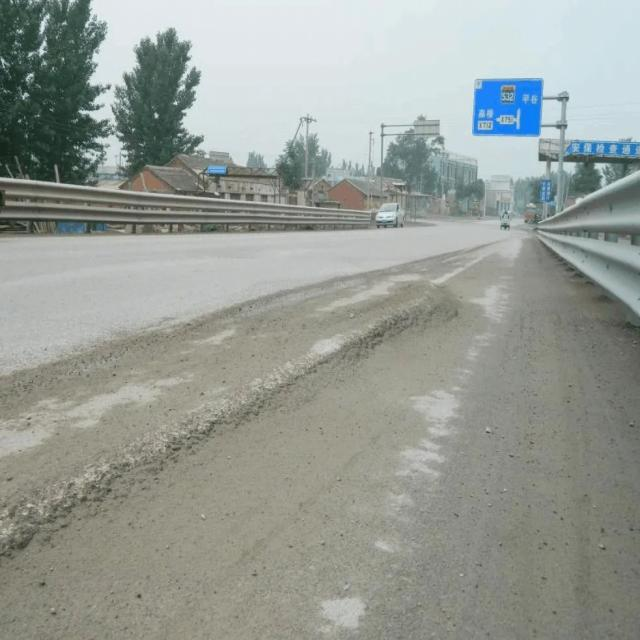Pothole: (2, 295, 450, 550)
